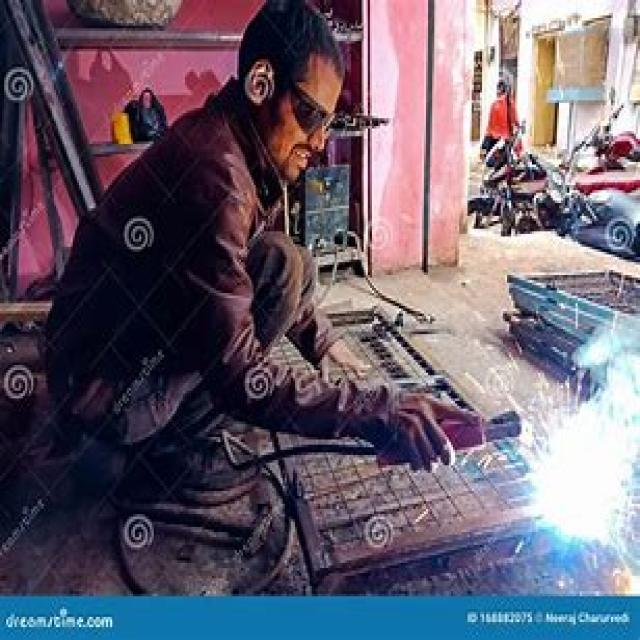without_helmet: (221, 0, 383, 208)
